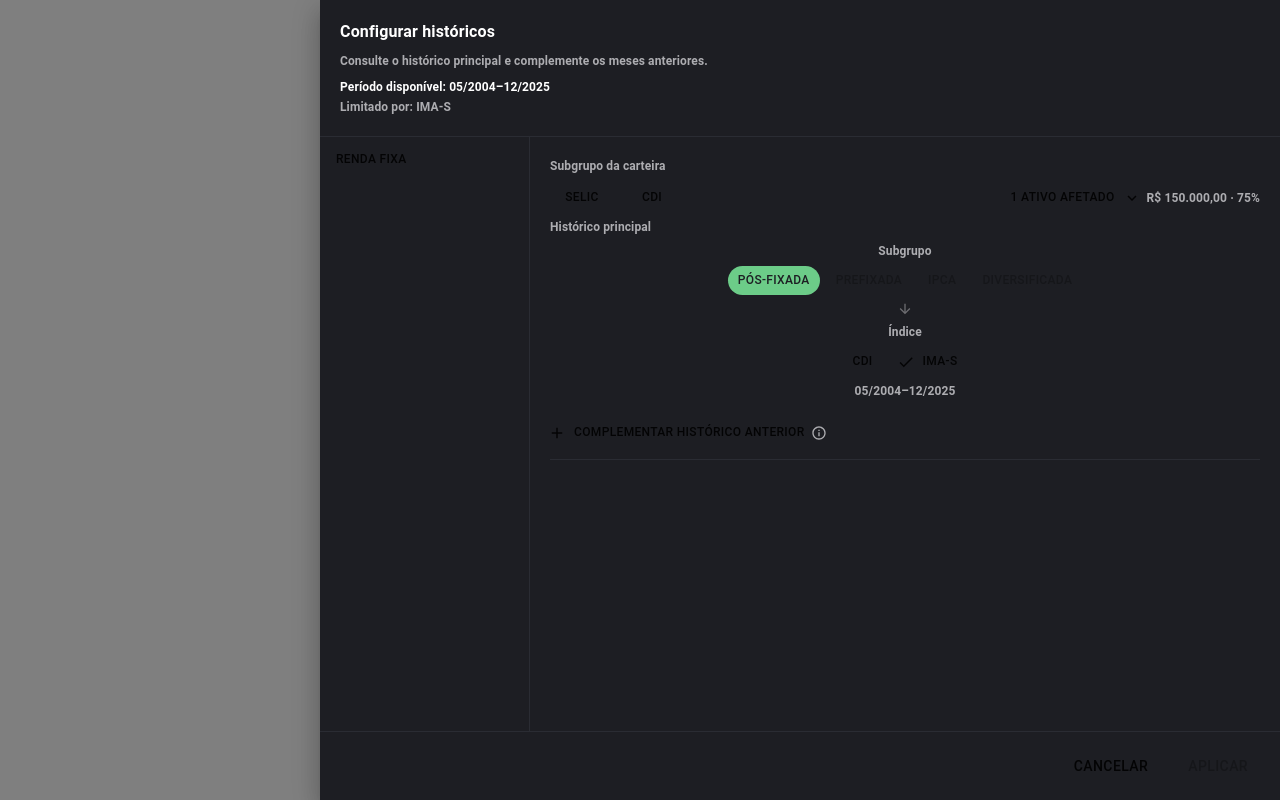
Test: uses portfolio tabs and locks the primary subgroup
Expected: the tabs read "Renda fixa", in this order, [328,145,521,174]
Click the button named "O que significa complementar histórico anterior?". click: (819, 432)
box: [811,424,827,440]
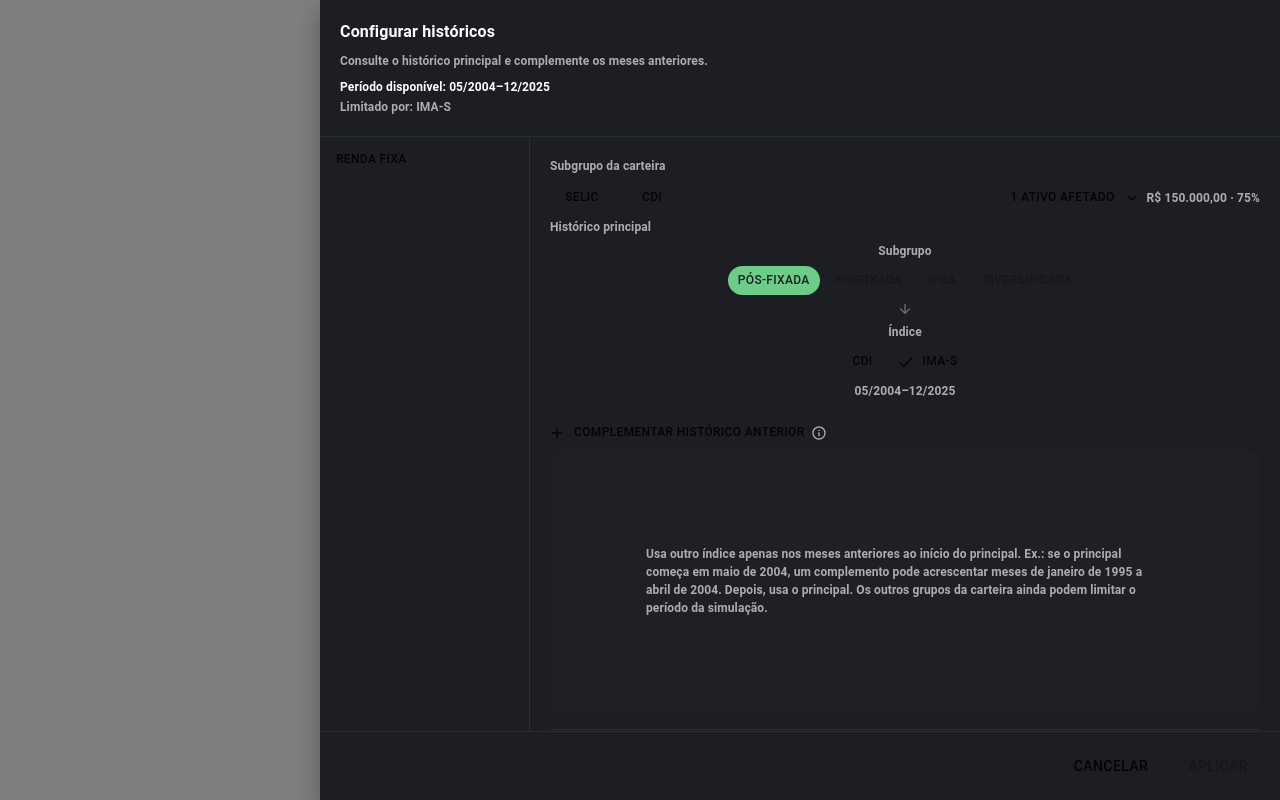
Expected: the button "Pós-fixada" is disabled, [728,266,820,295]
Result: the text "um complemento pode acrescentar meses de janeiro" is shown at [646,547,1142,615]
Click the button "CDI" in the row of "R$ 150.000,00 ·". click: (652, 198)
box: [620,183,684,212]
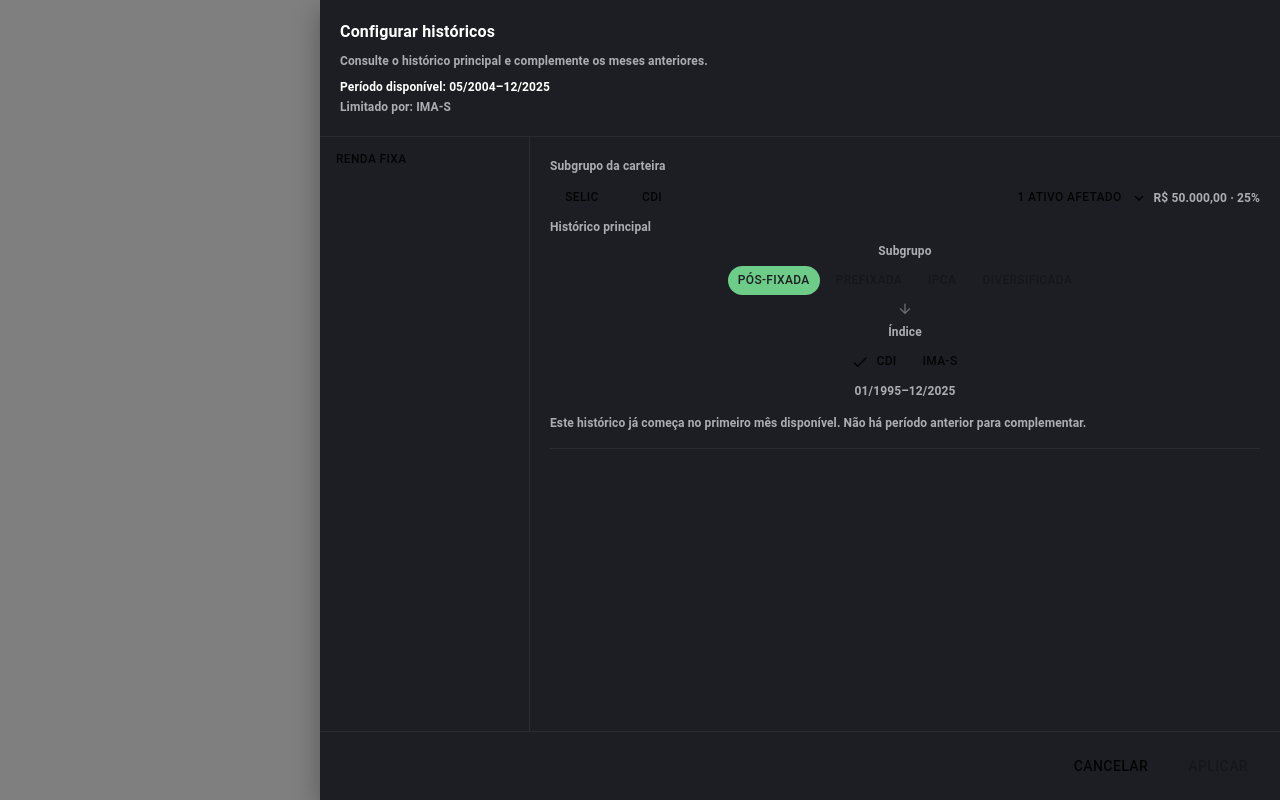
Result: the button "Complementar histórico anterior" is gone
